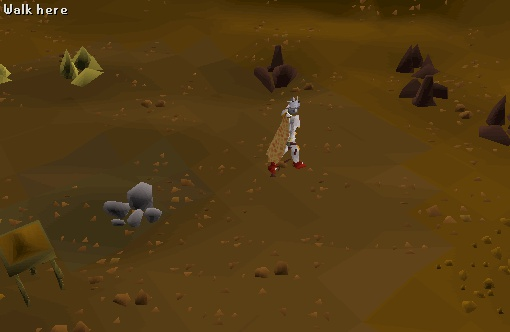gold: (54, 40, 116, 91)
iron: (244, 39, 312, 98), (394, 68, 453, 117)
